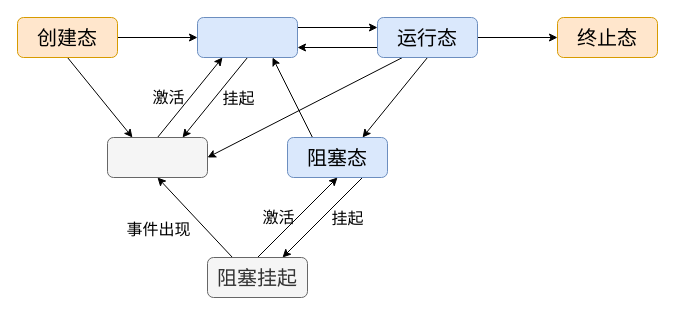
Image size: 675x315. Some labels were removed from this diagram. The centre of each missing label's shape, as x and y in pixels:
"就绪态" goes at point 247,37.
"就绪挂起" goes at point 157,157.
